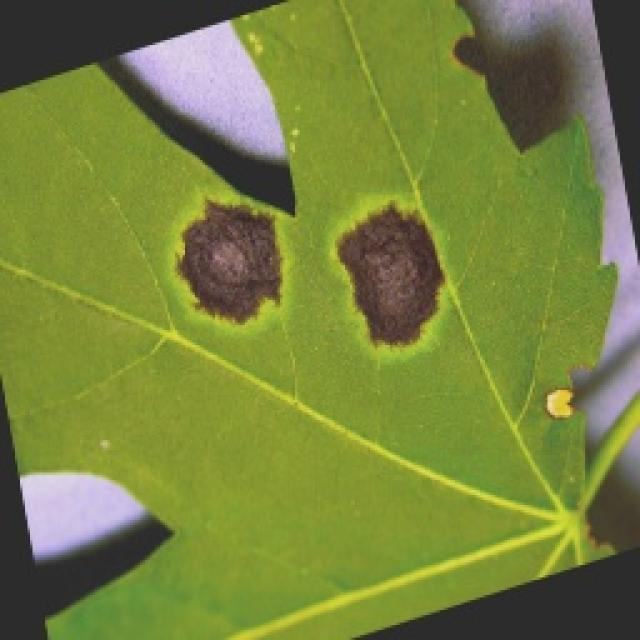Tar_Spot: (0, 0, 638, 638), (156, 141, 478, 361)
